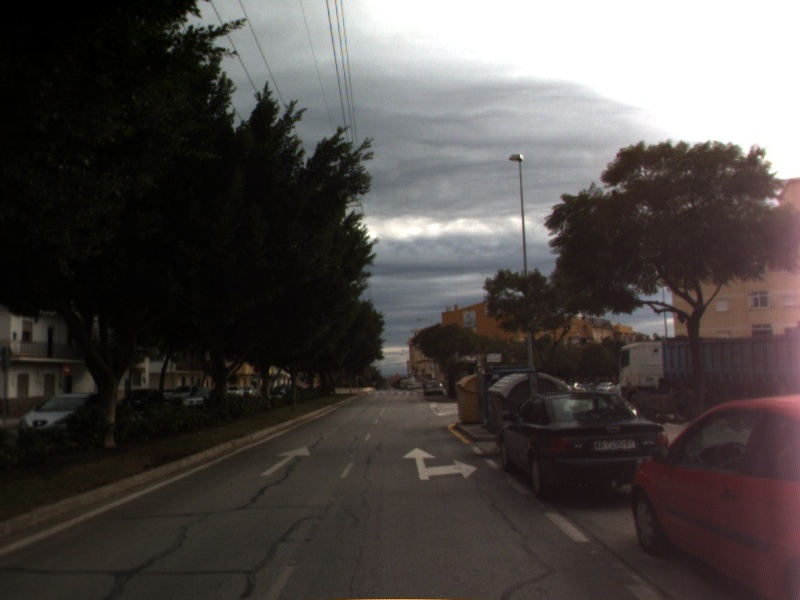STRAIGHT: (258, 443, 313, 478)
STRAIGHT_RIGHT: (400, 445, 480, 482)
